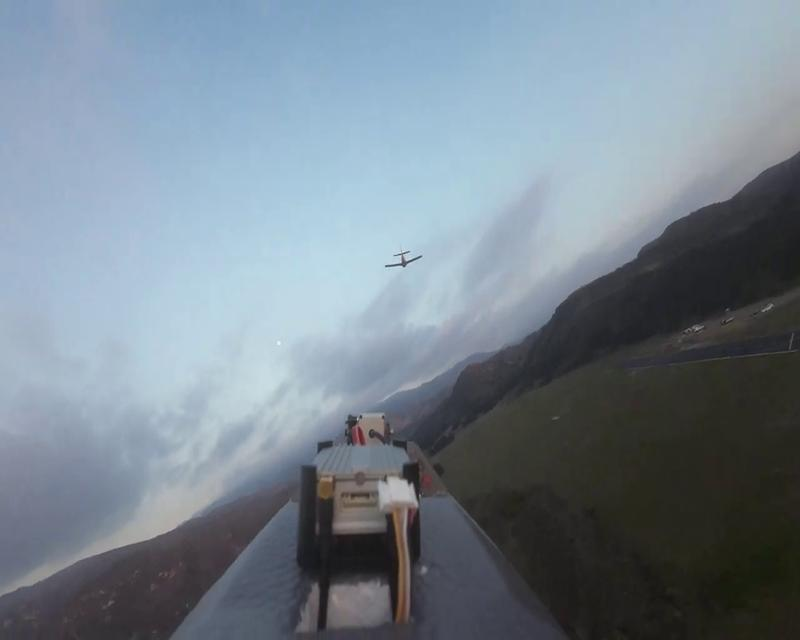UAV: (384, 245, 423, 272)
